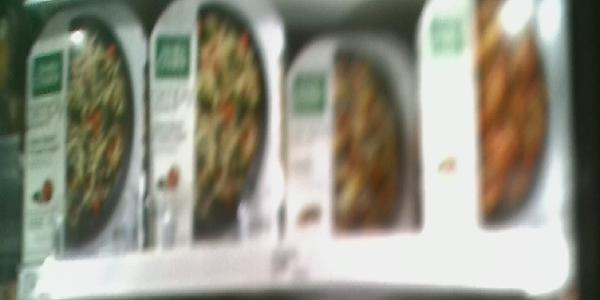pizza1: (424, 1, 567, 232), (151, 1, 286, 242), (22, 7, 151, 252), (286, 34, 421, 233)
